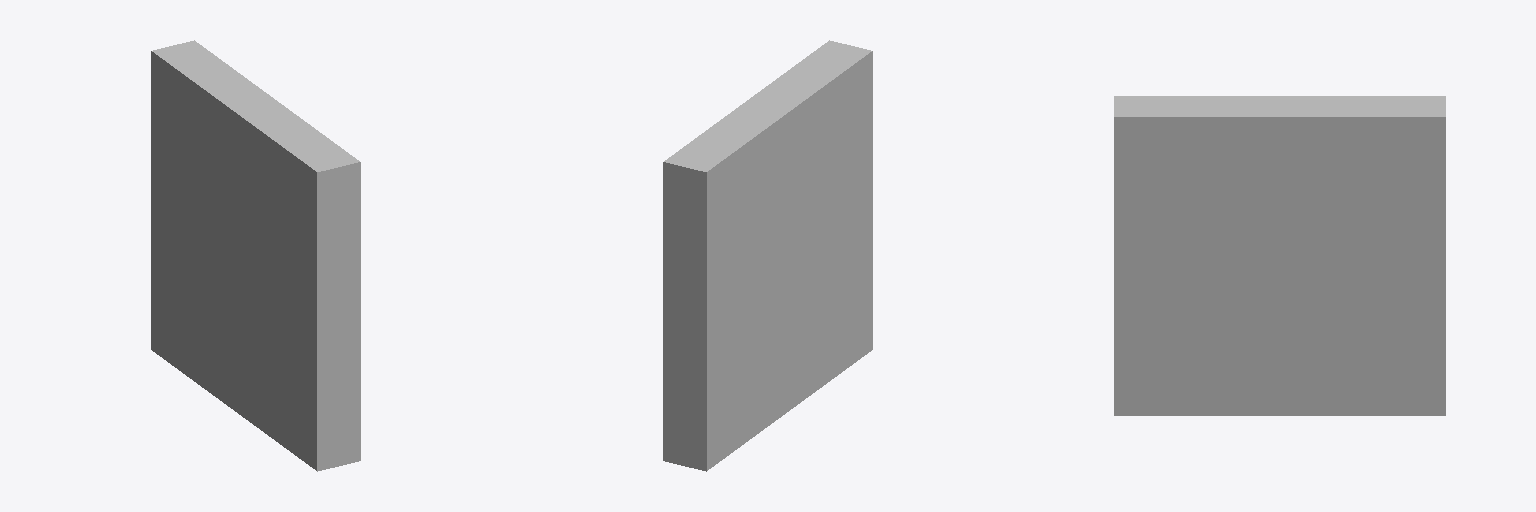
The model's file is wall(small).obj.
The picture shows the model from 3 angles: view 1: azimuth 30°, elevation 25°; view 2: azimuth 150°, elevation 25°; view 3: azimuth 270°, elevation 25°; orthographic projection.
Parts seen in each view (by area): view 1: wall(small); view 2: wall(small); view 3: wall(small).
Part boxes in pixels (bbox=[...]): wall(small): bbox=[151, 40, 360, 471]; wall(small): bbox=[663, 40, 872, 471]; wall(small): bbox=[1114, 96, 1445, 415].
Bounding box in the file's own units: 0.15 × 0.9936 × 1.